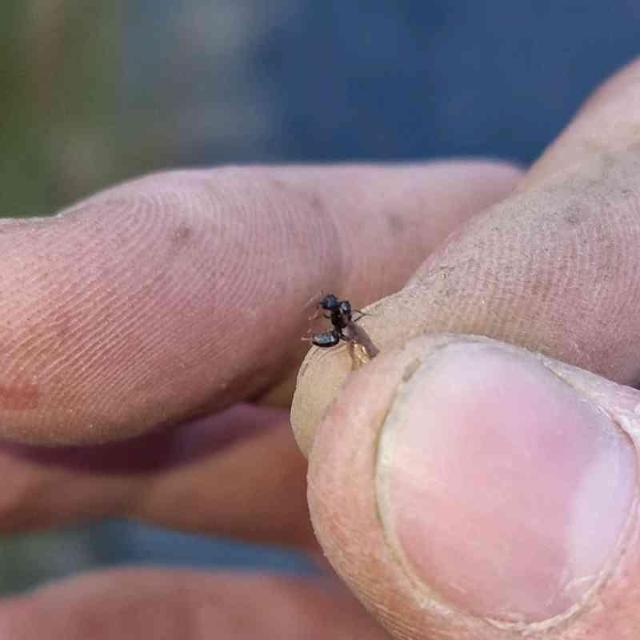Lasius: (296, 281, 380, 363)
